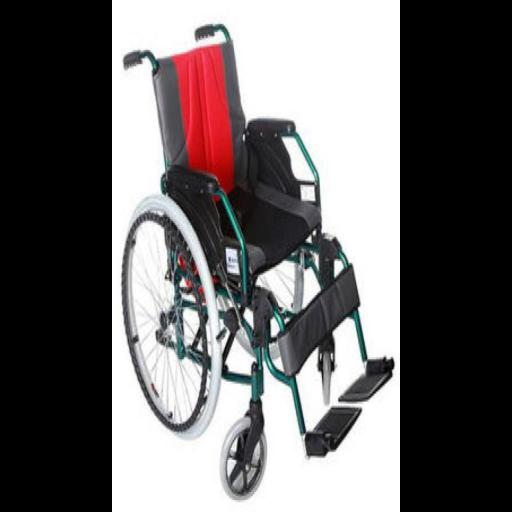cadeira_de_rodas: (119, 23, 393, 496)
